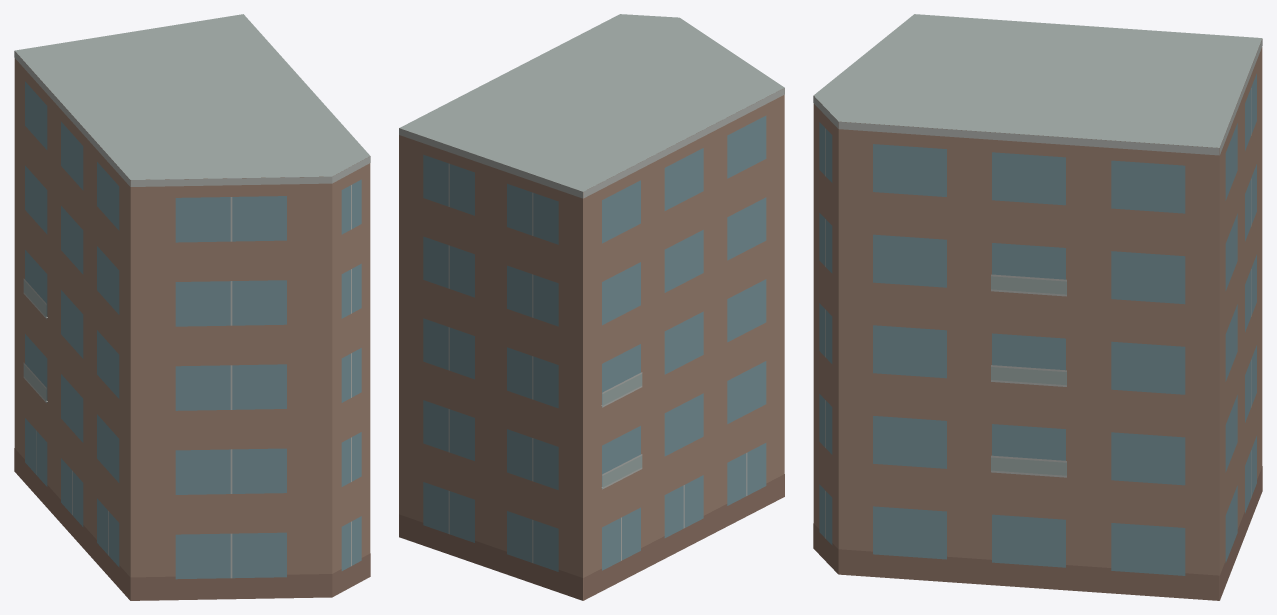
Rendered from survey-upis-32879398.glb.
The picture shows the model from 3 angles, left to right: view 1: azimuth 30°, elevation 25°; view 2: azimuth 150°, elevation 25°; view 3: azimuth 270°, elevation 25°; orthographic projection. The views are drawn at different scales.
Parts seen in each view (by area): view 1: survey-upis-32879398.tmp; view 2: survey-upis-32879398.tmp; view 3: survey-upis-32879398.tmp.
Boxes of the visible parts, left/top/right/bottom form: survey-upis-32879398.tmp: left=14, top=14, right=370, bottom=600; survey-upis-32879398.tmp: left=399, top=14, right=784, bottom=600; survey-upis-32879398.tmp: left=813, top=14, right=1262, bottom=600.
Bounding box in the file's own units: 9.27 × 14.6 × 13.13.
